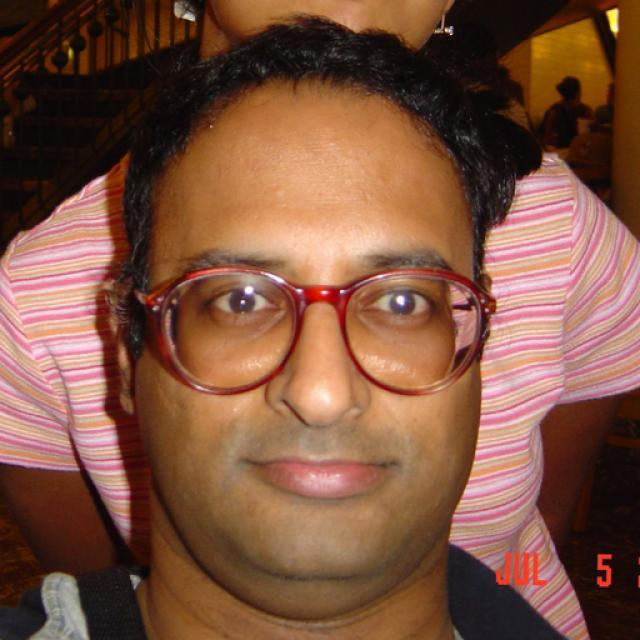neutral: (137, 71, 482, 585)
